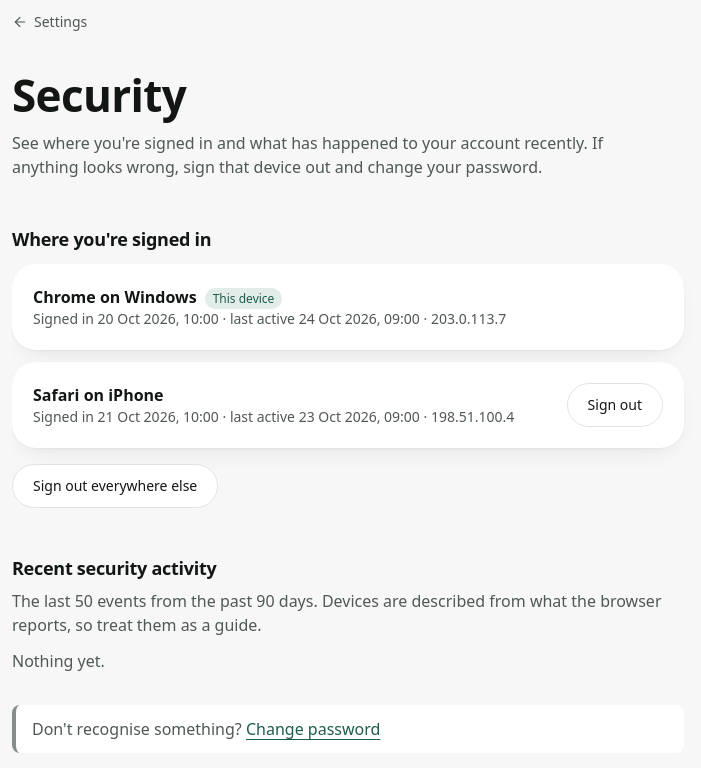
SecurityPage › signs out another device
Click the button with aria-label "Sign out Safari on iPhone".
click(615, 405)  # box [567, 383, 663, 427]
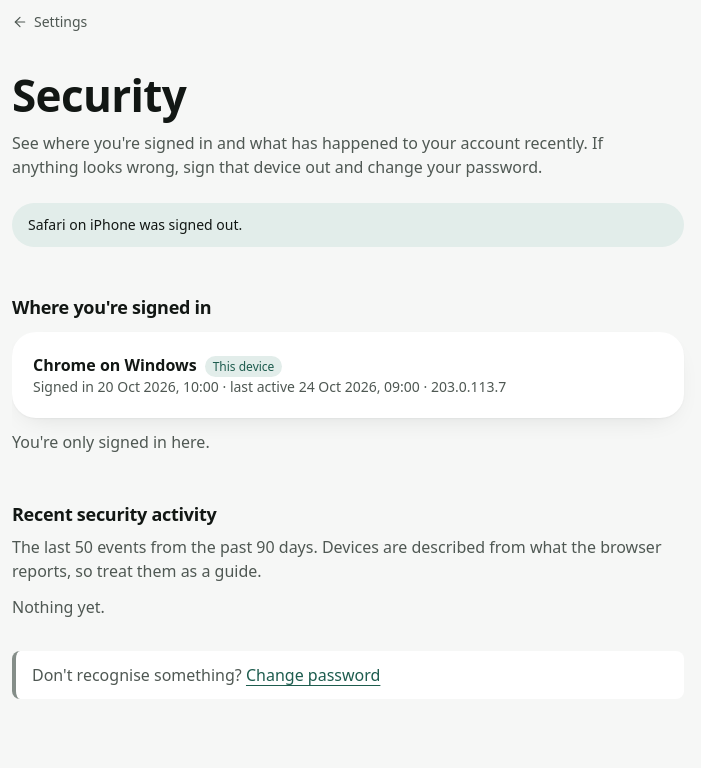
Now the message reads "Safari on iPhone was signed out.", box [28, 215, 242, 234]
Now the text "You're only signed in here." is shown, box [12, 431, 210, 453]
